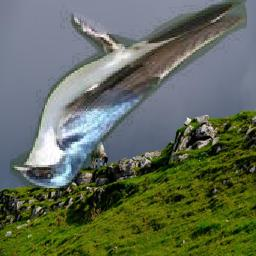Swallow: (11, 0, 248, 188)
